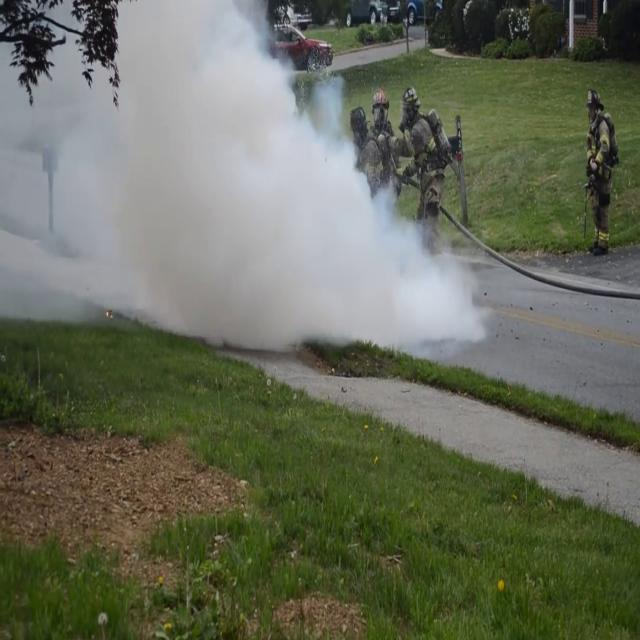Smoke: (61, 0, 472, 364)
